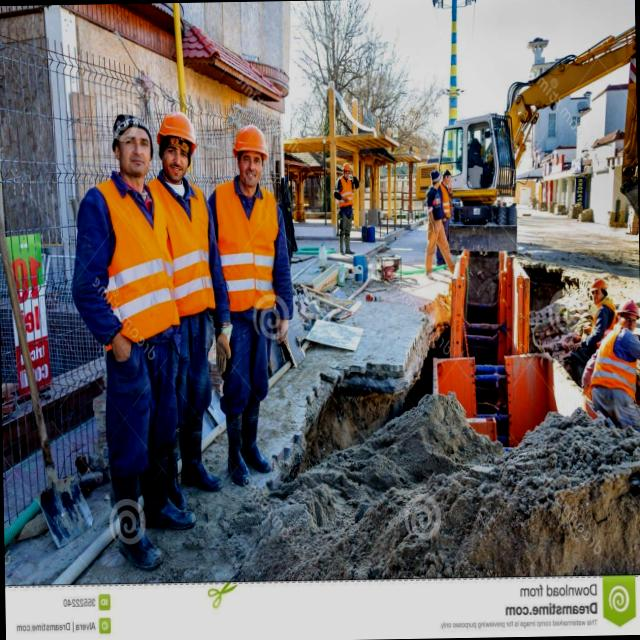helmet: (152, 111, 200, 158), (230, 123, 266, 158)
vest: (89, 188, 158, 372), (203, 186, 287, 323), (154, 169, 203, 352)
